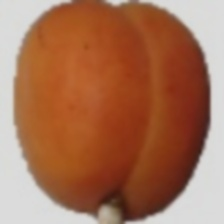apricot: (15, 25, 184, 219)
